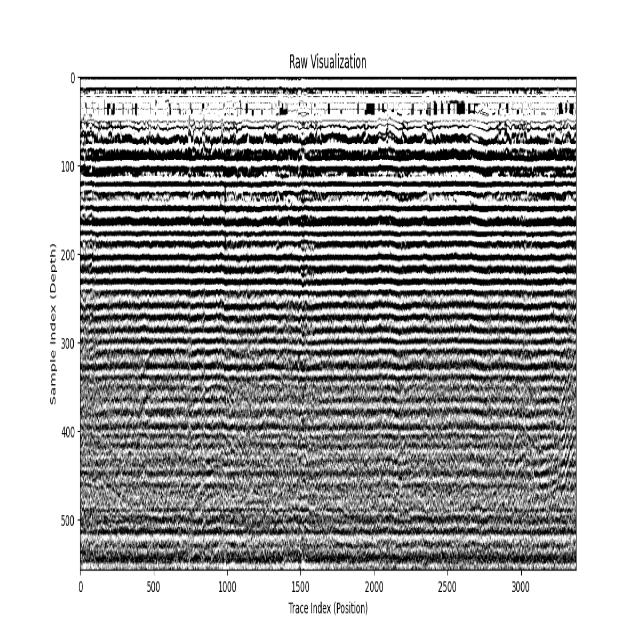anomaly: (107, 348, 221, 504), (493, 361, 573, 541)
